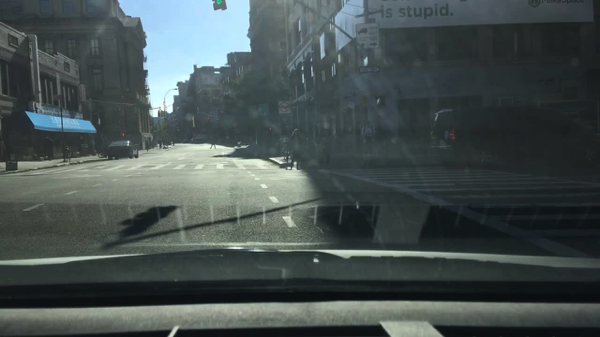bike: (279, 136, 292, 160), (61, 146, 72, 162), (97, 145, 108, 159)
bus: (430, 106, 599, 176)
car: (105, 139, 139, 161), (74, 143, 95, 157), (190, 134, 208, 144), (179, 134, 190, 143)
person: (359, 119, 374, 167), (287, 128, 303, 170), (316, 128, 331, 169), (312, 121, 324, 169), (43, 135, 55, 160), (0, 137, 8, 161), (209, 134, 216, 149), (144, 139, 151, 152), (170, 136, 176, 147), (156, 137, 162, 148), (150, 139, 156, 149)
traffic light: (212, 1, 227, 12), (373, 95, 386, 107), (191, 115, 195, 125), (160, 110, 164, 118), (157, 110, 161, 117), (207, 115, 210, 123)
traffic sign: (353, 23, 380, 48), (358, 65, 380, 74), (278, 100, 291, 115), (257, 102, 270, 116), (279, 115, 292, 125)
